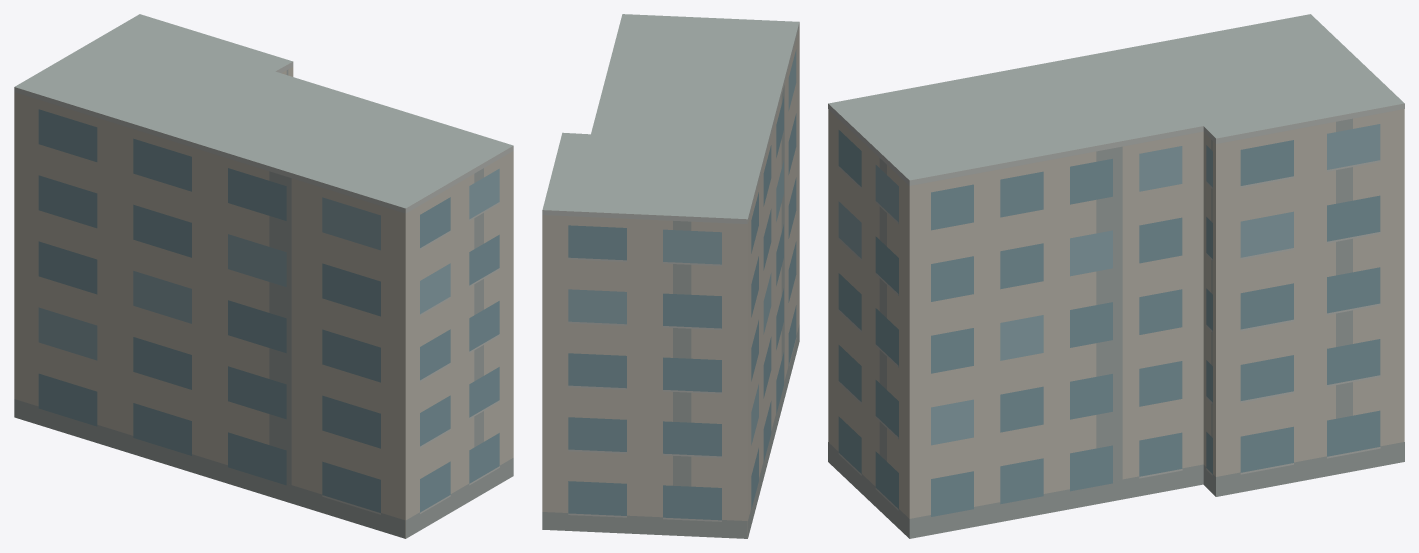
Rendered from survey-upis-33002300.glb.
3 views of the same model, side by side, from view 1: azimuth 30°, elevation 25°; view 2: azimuth 150°, elevation 25°; view 3: azimuth 270°, elevation 25° (orthographic). The views are drawn at different scales.
Parts seen in each view (by area): view 1: survey-upis-33002300.tmp; view 2: survey-upis-33002300.tmp; view 3: survey-upis-33002300.tmp.
Boxes of the visible parts, x1,y1,x2,y2 form: survey-upis-33002300.tmp: [14, 14, 513, 538]; survey-upis-33002300.tmp: [542, 14, 799, 538]; survey-upis-33002300.tmp: [828, 14, 1404, 538].
Bounding box in the file's own units: 15.75 × 15.8 × 23.05.
